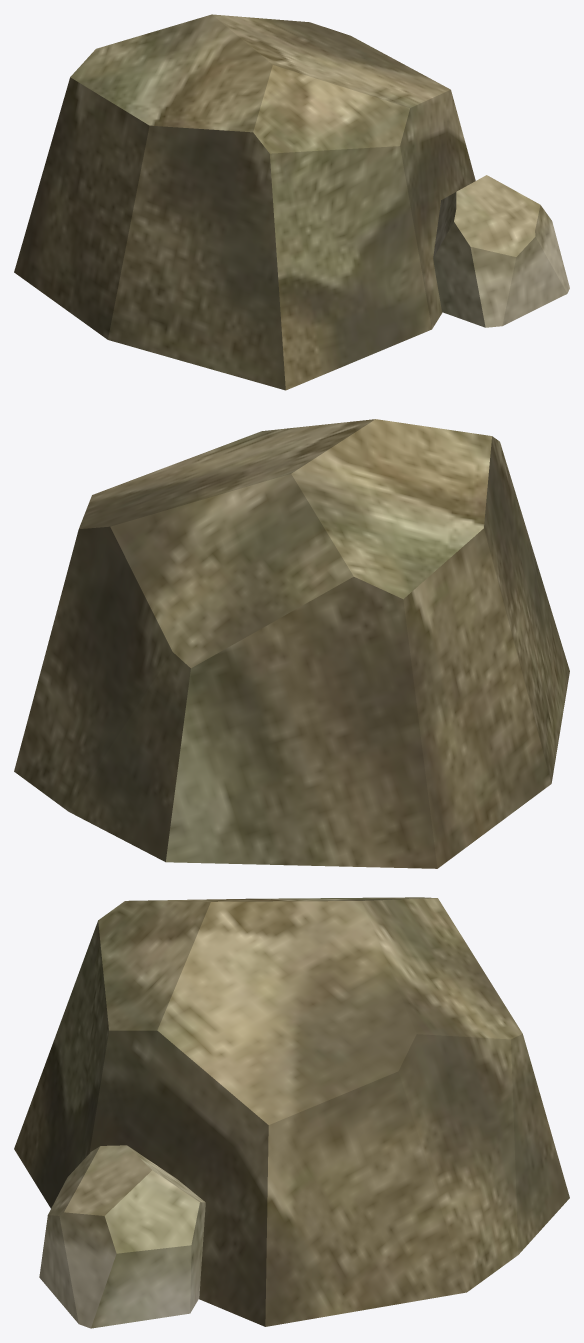
The model's file is ROCHE-L.glb.
3 views of the same model, one above another, from view 1: azimuth 30°, elevation 25°; view 2: azimuth 150°, elevation 25°; view 3: azimuth 270°, elevation 25° (orthographic). The views are drawn at different scales.
Parts seen in each view (by area): view 1: Cylinder; view 2: Cylinder; view 3: Cylinder.
Boxes of the visible parts, box(x1,y1,x2,y2) form: Cylinder: box(14, 14, 569, 390); Cylinder: box(14, 419, 569, 868); Cylinder: box(14, 897, 569, 1328).
Size of the model in its own units: 4.53 by 2.7 by 4.67.
1 material, 1 textured.
